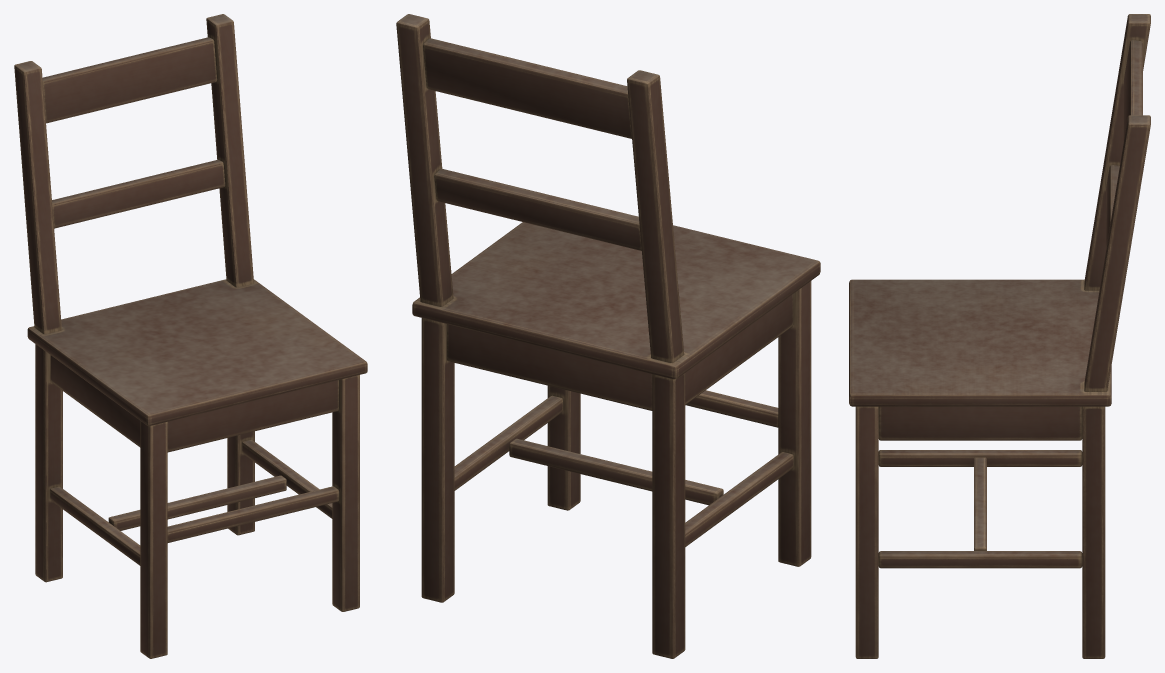
File: GuardChair.glb
The picture shows the model from 3 angles, left to right: view 1: azimuth 30°, elevation 25°; view 2: azimuth 150°, elevation 25°; view 3: azimuth 270°, elevation 25°; orthographic projection. The views are drawn at different scales.
Parts seen in each view (by area): view 1: GuardChair; view 2: GuardChair; view 3: GuardChair.
Boxes of the visible parts, x1,y1,x2,y2 form: GuardChair: [14, 14, 367, 658]; GuardChair: [396, 14, 820, 658]; GuardChair: [849, 14, 1150, 658].
Bounding box in the file's own units: 0.42 × 0.9 × 0.4596.
Materials: 1 (1 with a texture image).
